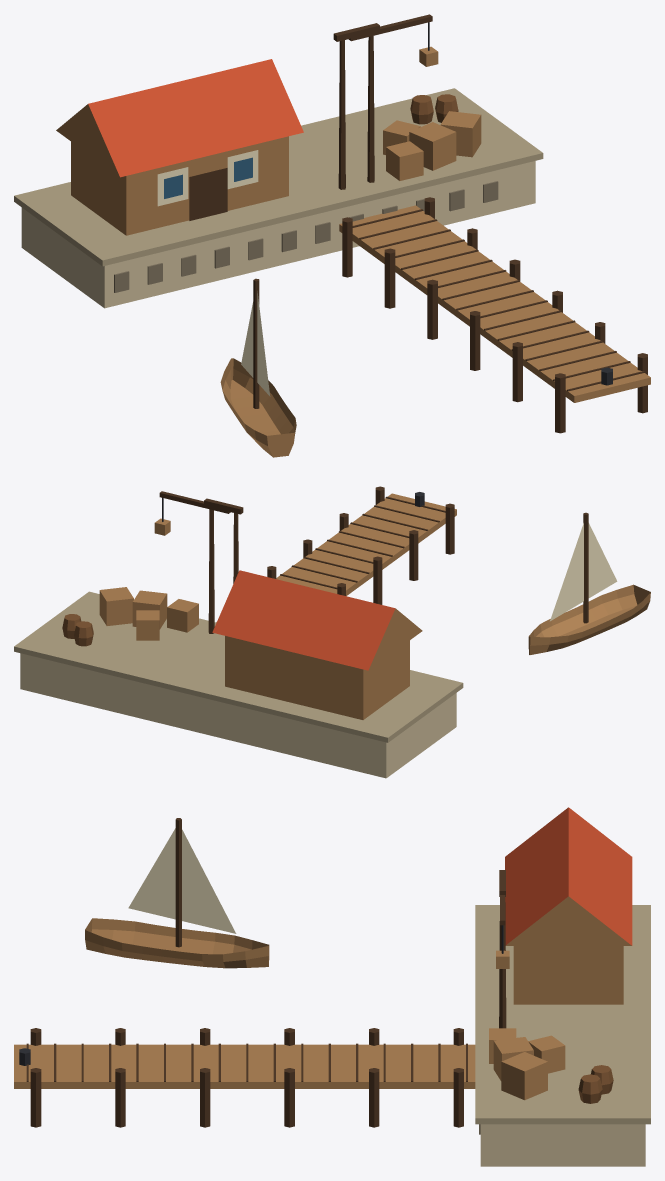
The model's file is district_harbor_1.fbx.
The picture shows the model from 3 angles, top to bottom: view 1: azimuth 30°, elevation 25°; view 2: azimuth 150°, elevation 25°; view 3: azimuth 270°, elevation 25°; orthographic projection. The views are drawn at different scales.
Visible parts, largest first — view 1: district_harbor_1; view 2: district_harbor_1; view 3: district_harbor_1.
Part boxes in pixels (bbox=[...]): district_harbor_1: bbox=[14, 14, 650, 457]; district_harbor_1: bbox=[14, 486, 650, 778]; district_harbor_1: bbox=[14, 807, 650, 1166].
Bounding box in the file's own units: 98.23 × 44.2 × 116.
